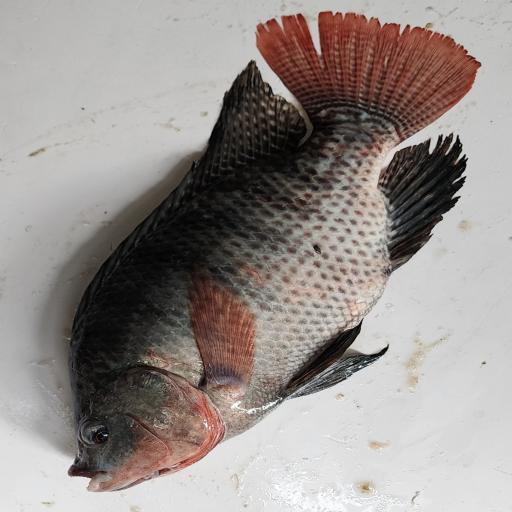Tilapia: (65, 11, 482, 492)
